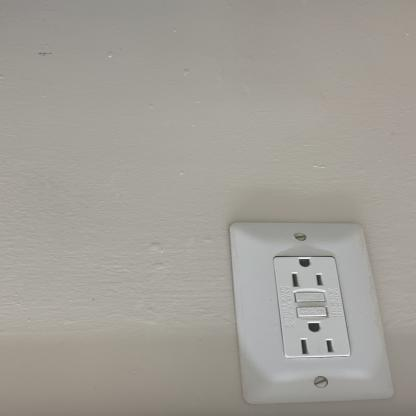OUTLET: (238, 225, 371, 403)
